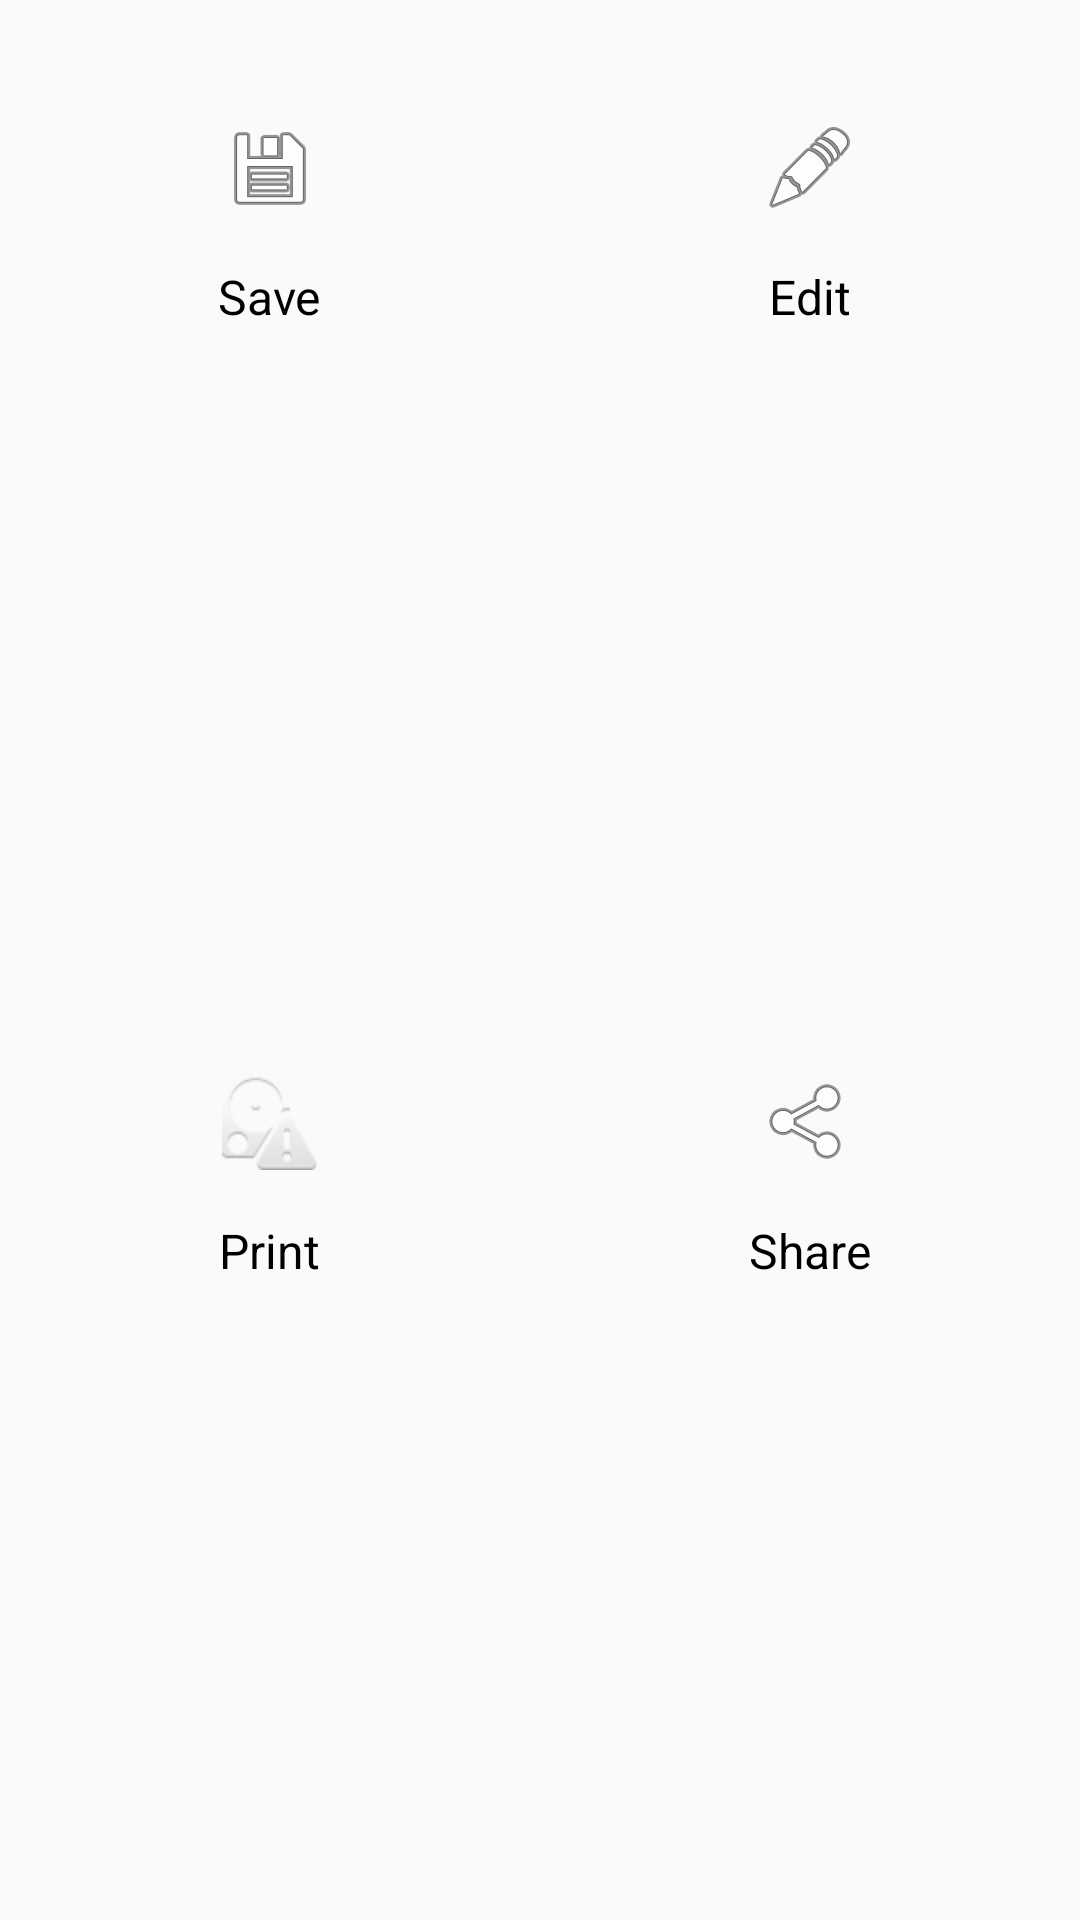

Locate icon controls on the screen. Image size 1080 × 1920, boxes as (x1, y1, x2, y2).
popup disk full: (222, 1078, 316, 1170)
